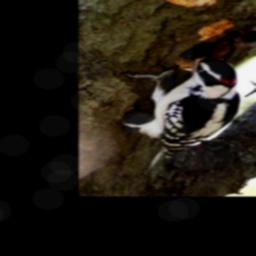Woodpecker: (122, 52, 239, 165)
